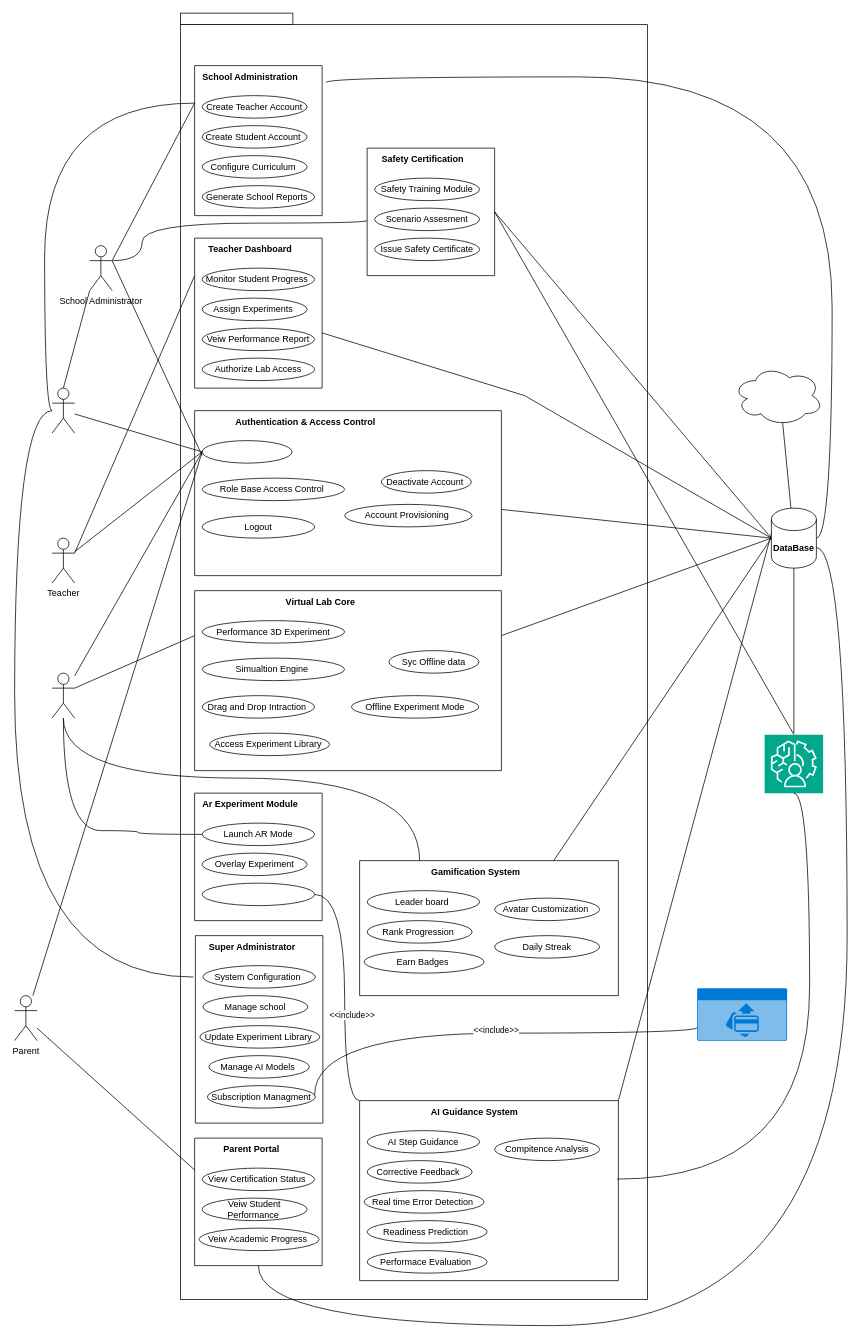
This 860x1339 diagram has some shape labels left out. Each missing label, with the box of its shape:
AI API: (764, 734, 823, 793)
AI Guidance in AR: (201, 882, 315, 906)
Cloud: (732, 365, 823, 426)
Login: (201, 440, 292, 463)
Payment Gateway: (697, 988, 787, 1040)
Student: (51, 672, 75, 718)
Super Administator: (51, 387, 75, 433)
USECASE DIAGRAM: (180, 12, 293, 24)
